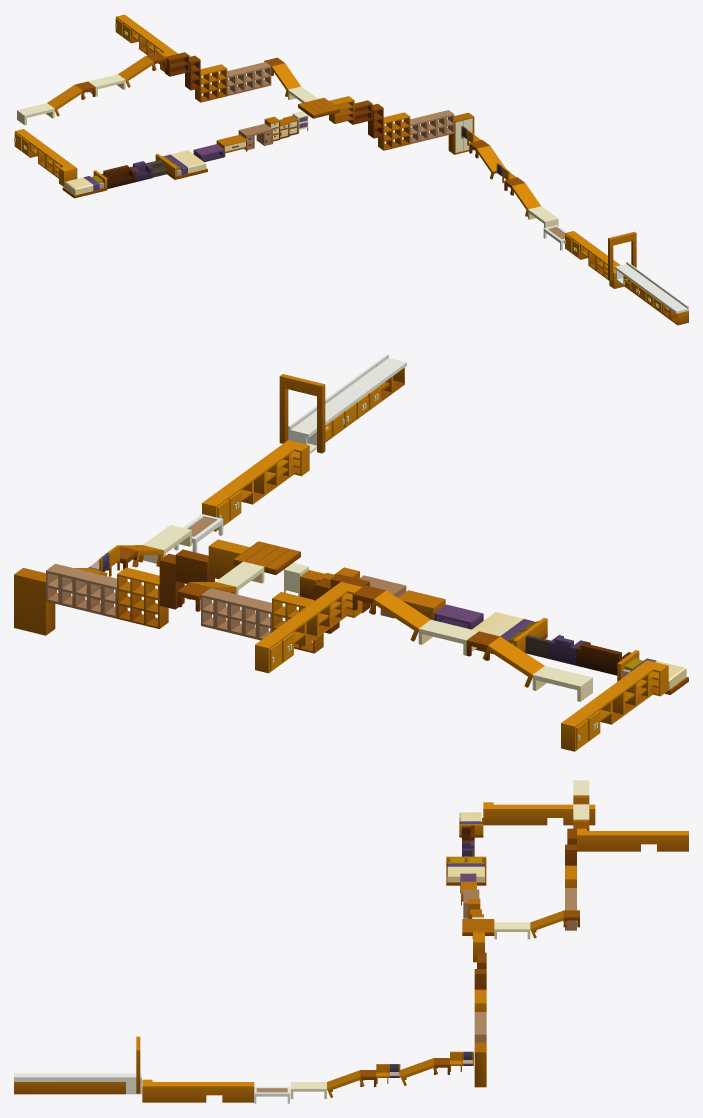
File: envi3.fbx
The picture shows the model from 3 angles, top to bottom: view 1: azimuth 30°, elevation 25°; view 2: azimuth 150°, elevation 25°; view 3: azimuth 270°, elevation 25°; orthographic projection. The views are drawn at different scales.
Visible parts, largest first — view 1: CounterTop_2Layer_2Door_DoorR_Base_oak_0, WallCabinet_3Layer_Corner_Base_oak_0.002, WallCabinet_3Layer_Corner_Base_oak_0, WallCabinet_3Layer_Corner_Base_oak_0.001, Shelve_Cube_5x2_Base_oak_0, Shelve_Cube_5x2_Base_oak_0.001, Shelf_Cube_3x3_Base_oak_0, Bed_Queen_Base_oak_0, Shelf_Cube_3x3_Base_oak_0.001, Bed_Twin_Base_oak_0, Closet_DoorR_Base_oak_0, 2m_Wall_Doorhole_Base_oak_0 (+5 smaller); view 2: CounterTop_2Layer_2Door_DoorR_Base_oak_0, WallCabinet_3Layer_Corner_Base_oak_0.002, WallCabinet_3Layer_Corner_Base_oak_0.001, WallCabinet_3Layer_Corner_Base_oak_0, Shelve_Cube_5x2_Base_oak_0, Shelve_Cube_5x2_Base_oak_0.001, Shelf_Cube_3x3_Base_oak_0, Closet_DoorR_Base_oak_0, 2m_Wall_Doorhole_Base_oak_0, Bed_Queen_Base_oak_0, 2m_Floor_longstrip_Base_oak_0, Shelf_Cube_3x3_Base_oak_0.001 (+15 smaller); view 3: CounterTop_2Layer_2Door_DoorR_Base_oak_0, WallCabinet_3Layer_Corner_Base_oak_0, WallCabinet_3Layer_Corner_Base_oak_0.001, WallCabinet_3Layer_Corner_Base_oak_0.002, Bed_Queen_Base_oak_0, Closet_DoorR_Base_oak_0, 2m_Floor_longstrip_Base_oak_0, Bed_Twin_Base_oak_0.
Part boxes in pixels (box(x1,y1,x2,y2)): CounterTop_2Layer_2Door_DoorR_Base_oak_0: box(615, 261, 688, 325); WallCabinet_3Layer_Corner_Base_oak_0.002: box(14, 129, 77, 186); WallCabinet_3Layer_Corner_Base_oak_0: box(564, 231, 623, 288); WallCabinet_3Layer_Corner_Base_oak_0.001: box(115, 14, 177, 72); Shelve_Cube_5x2_Base_oak_0: box(410, 110, 454, 144); Shelve_Cube_5x2_Base_oak_0.001: box(227, 62, 271, 95); Shelf_Cube_3x3_Base_oak_0: box(378, 112, 410, 150); Bed_Queen_Base_oak_0: box(155, 150, 207, 179); Shelf_Cube_3x3_Base_oak_0.001: box(195, 64, 227, 102); Bed_Twin_Base_oak_0: box(62, 170, 107, 198); Closet_DoorR_Base_oak_0: box(448, 112, 474, 154); 2m_Wall_Doorhole_Base_oak_0: box(608, 231, 636, 280); CounterTop_2Layer_2Door_DoorR_Base_oak_0: box(288, 354, 406, 453); WallCabinet_3Layer_Corner_Base_oak_0.002: box(561, 660, 668, 751); WallCabinet_3Layer_Corner_Base_oak_0.001: box(255, 582, 362, 673); WallCabinet_3Layer_Corner_Base_oak_0: box(202, 440, 309, 531); Shelve_Cube_5x2_Base_oak_0: box(46, 564, 116, 618); Shelve_Cube_5x2_Base_oak_0.001: box(201, 588, 271, 640); Shelf_Cube_3x3_Base_oak_0: box(117, 567, 168, 628); Closet_DoorR_Base_oak_0: box(14, 568, 55, 635); 2m_Wall_Doorhole_Base_oak_0: box(279, 374, 325, 453); Bed_Queen_Base_oak_0: box(472, 612, 547, 654); 2m_Floor_longstrip_Base_oak_0: box(233, 541, 300, 574); Shelf_Cube_3x3_Base_oak_0.001: box(272, 592, 323, 653); CounterTop_2Layer_2Door_DoorR_Base_oak_0: box(14, 1073, 141, 1094); WallCabinet_3Layer_Corner_Base_oak_0: box(142, 1079, 254, 1102); WallCabinet_3Layer_Corner_Base_oak_0.001: box(577, 828, 688, 851); WallCabinet_3Layer_Corner_Base_oak_0.002: box(483, 802, 595, 825); Bed_Queen_Base_oak_0: box(446, 856, 486, 885); Closet_DoorR_Base_oak_0: box(474, 1042, 486, 1087); 2m_Floor_longstrip_Base_oak_0: box(462, 919, 494, 935); Bed_Twin_Base_oak_0: box(459, 812, 483, 837).
Size of the model in its own units: 4093 by 1337 by 5621.
1 material, 1 textured.
